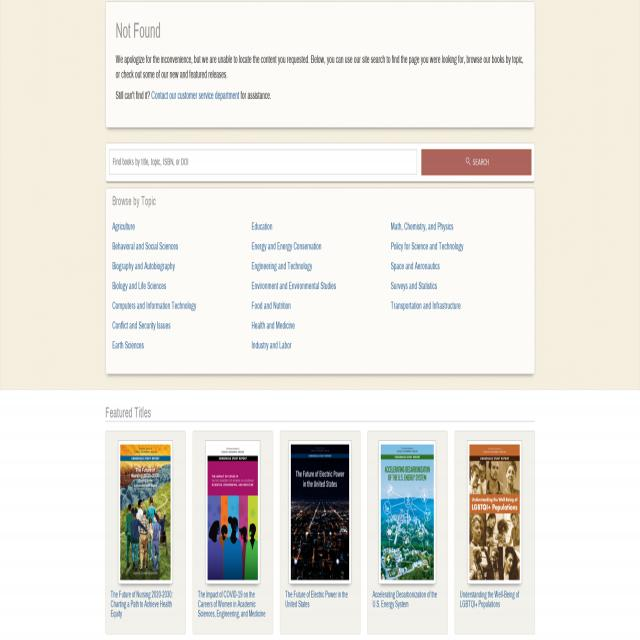button: (289, 442, 351, 583), (378, 440, 436, 583), (205, 440, 260, 585), (467, 441, 522, 584), (118, 441, 173, 583), (421, 149, 531, 175)
field: (109, 150, 417, 174)
